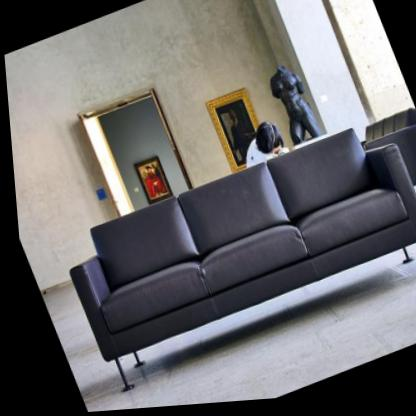Sofa: (45, 117, 416, 399), (352, 112, 416, 205)
